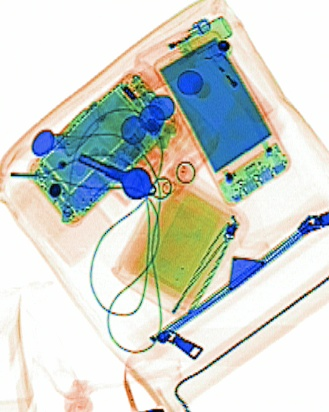lighter: (199, 37, 273, 120), (129, 16, 209, 67)
